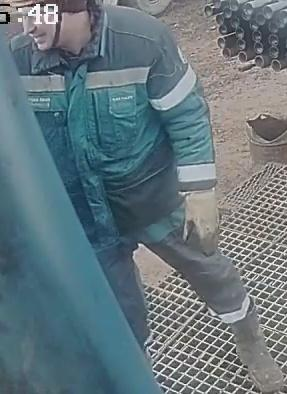gloves: (182, 189, 220, 256)
helmet: (0, 0, 103, 12)
vest: (7, 3, 196, 252)
